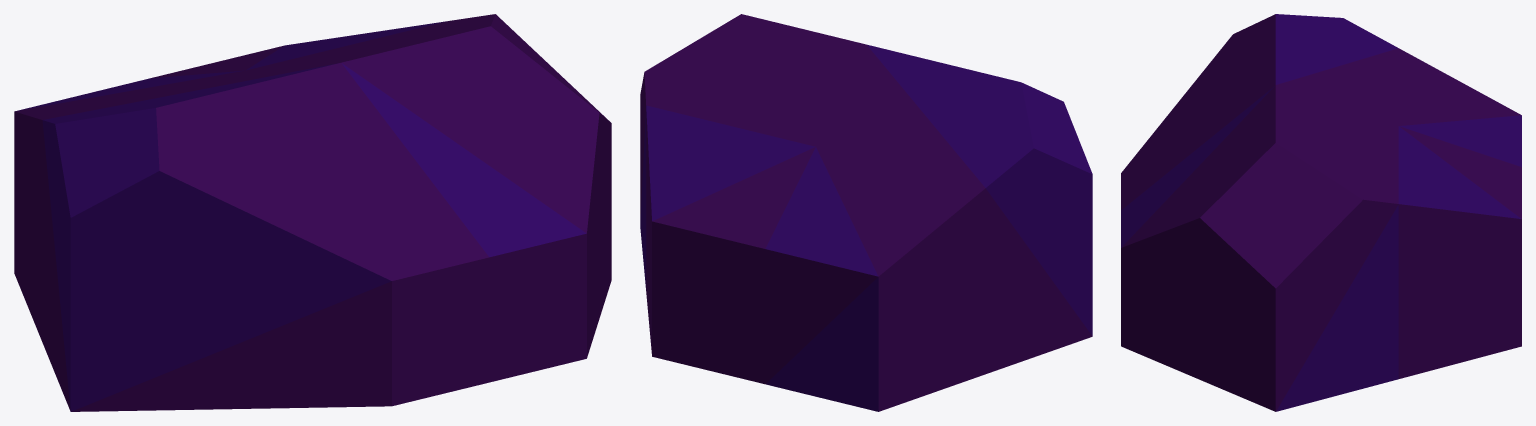
The model's file is Basalt.fbx.
The picture shows the model from 3 angles, left to right: view 1: azimuth 30°, elevation 25°; view 2: azimuth 150°, elevation 25°; view 3: azimuth 270°, elevation 25°; orthographic projection. The views are drawn at different scales.
Parts seen in each view (by area): view 1: Basalt; view 2: Basalt; view 3: Basalt.
Boxes of the visible parts, <box> form: Basalt: <box>14,14,611,411</box>; Basalt: <box>640,14,1092,411</box>; Basalt: <box>1121,14,1521,411</box>.
Size of the model in its own units: 26.84 by 13.43 by 21.87.
